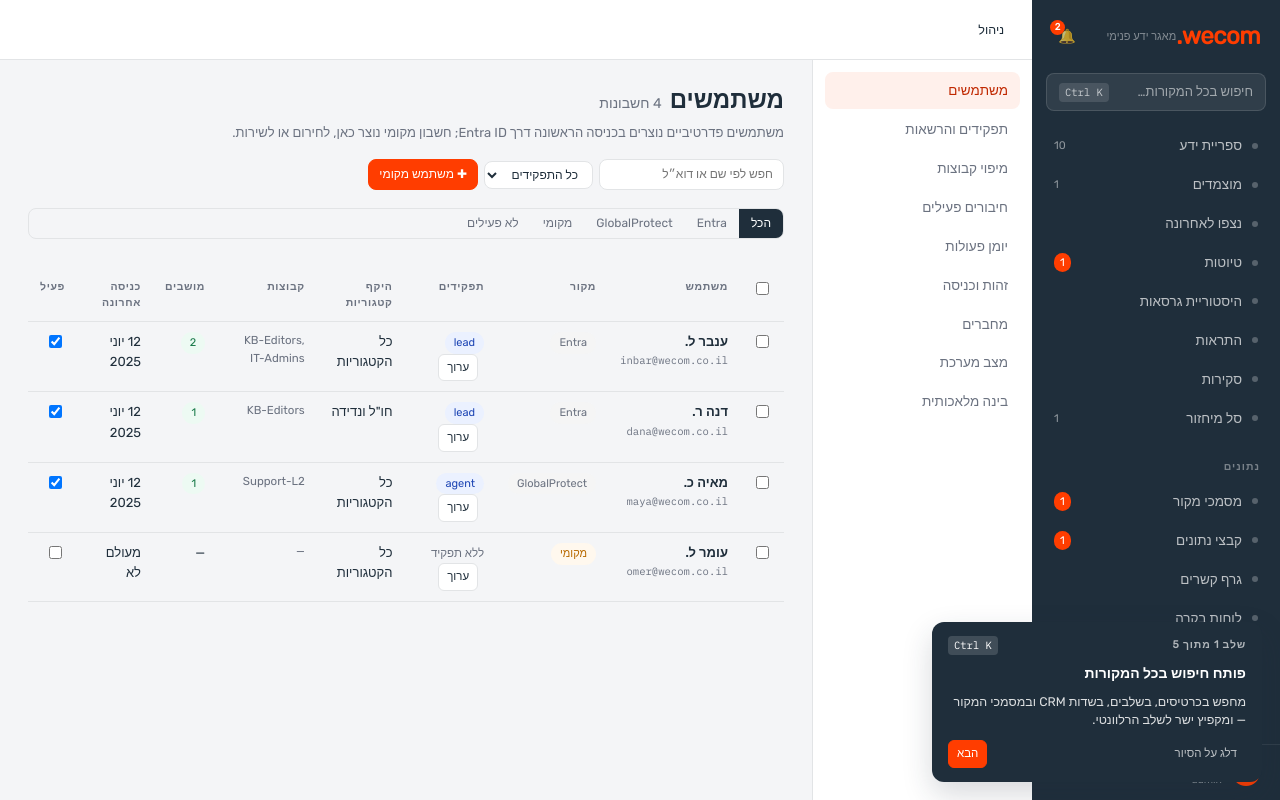
admin · users › edits a role with a multi-category scope in one PATCH
The width and height of the screenshot is (1280, 800).
Step 1. Click the button with aria-label "ערוך תפקיד של ענבר ל." → (458, 368), box [438, 354, 478, 381]
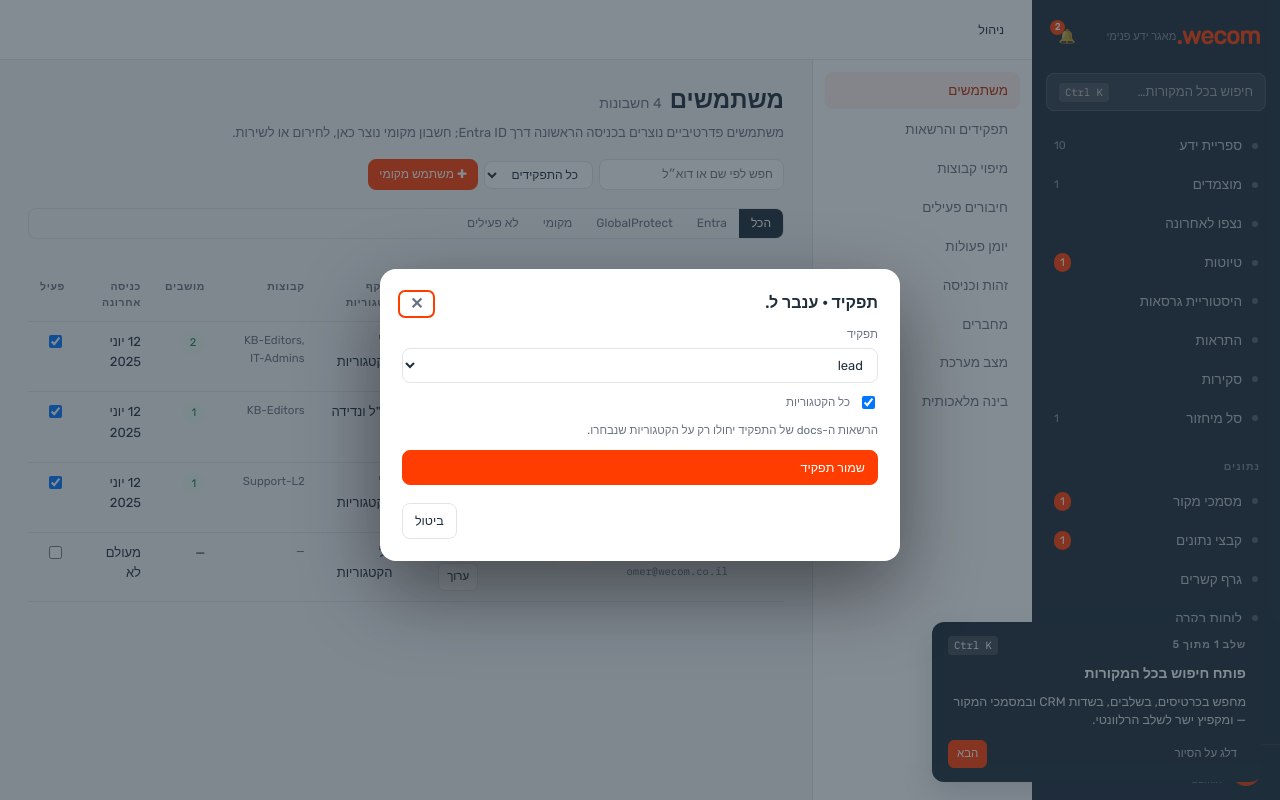
Step 2. Click the checkbox labelled "כל הקטגוריות" → (868, 402), box [862, 396, 875, 409]
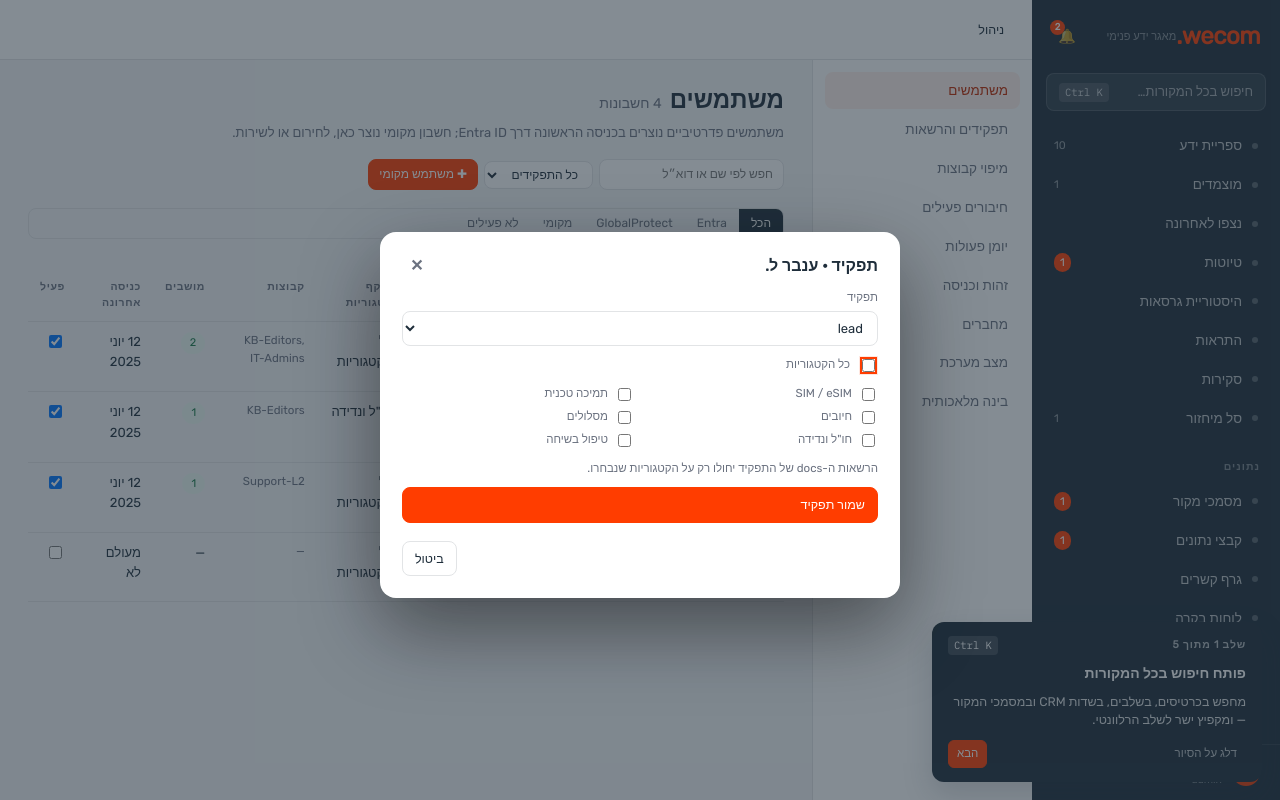
Step 3. Click the checkbox labelled "חו\"ל ונדידה" → (868, 440), box [862, 434, 875, 446]
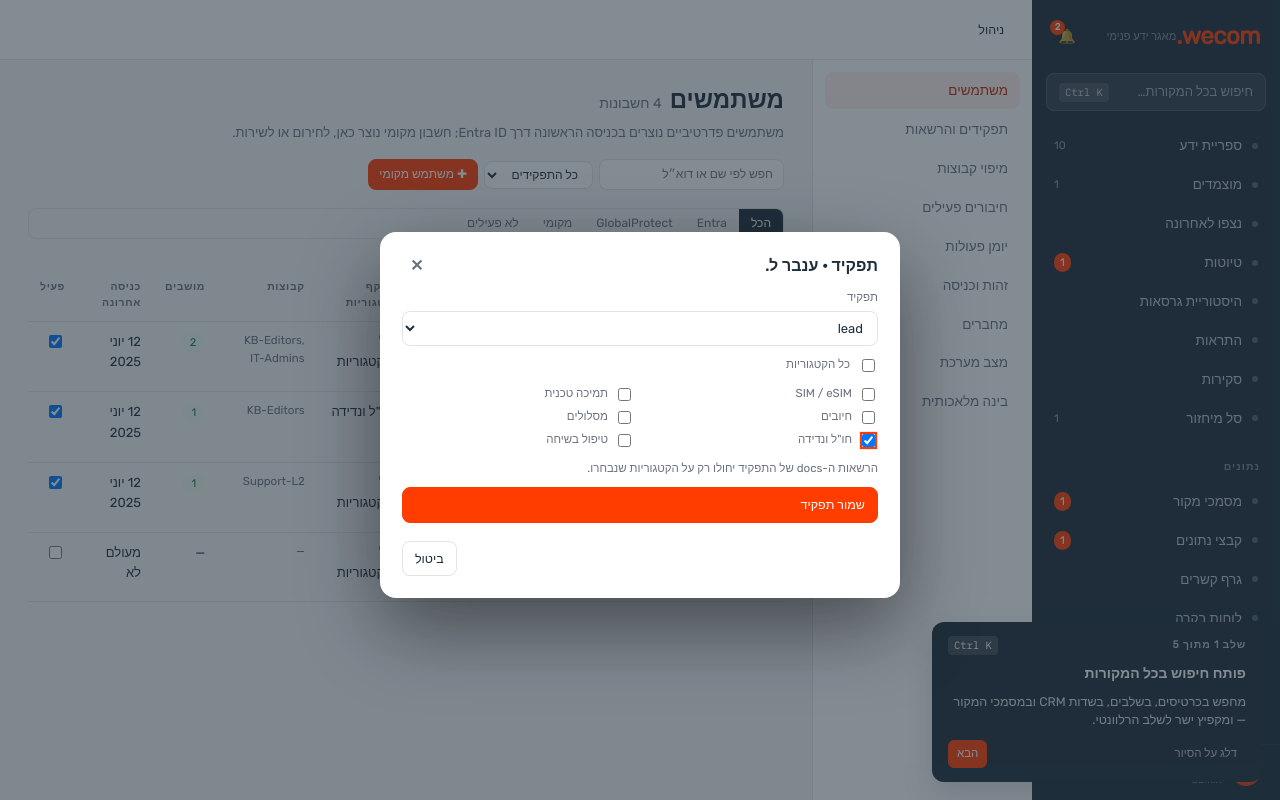
Step 4. Click the checkbox labelled "תמיכה טכנית" → (624, 394), box [618, 388, 631, 400]
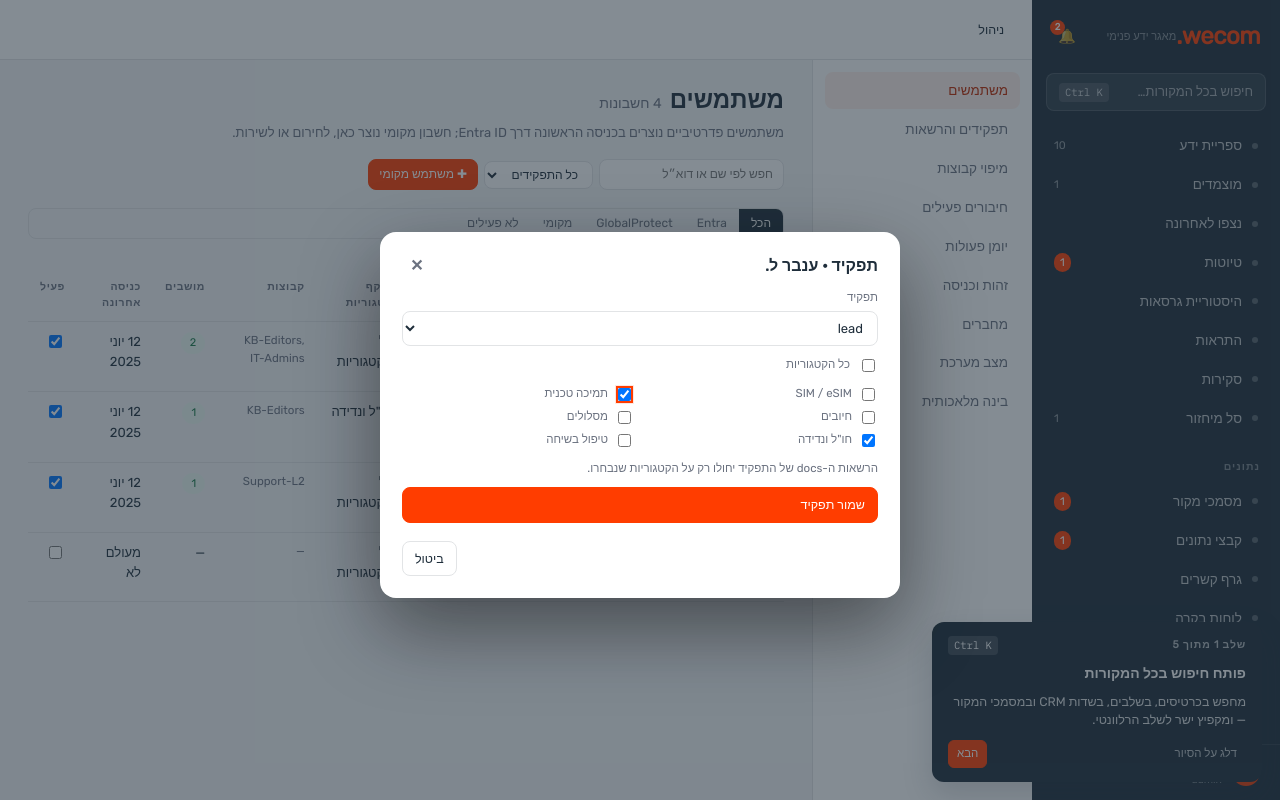
Step 5. Click the button "שמור תפקיד" → (833, 505), box [402, 487, 878, 523]
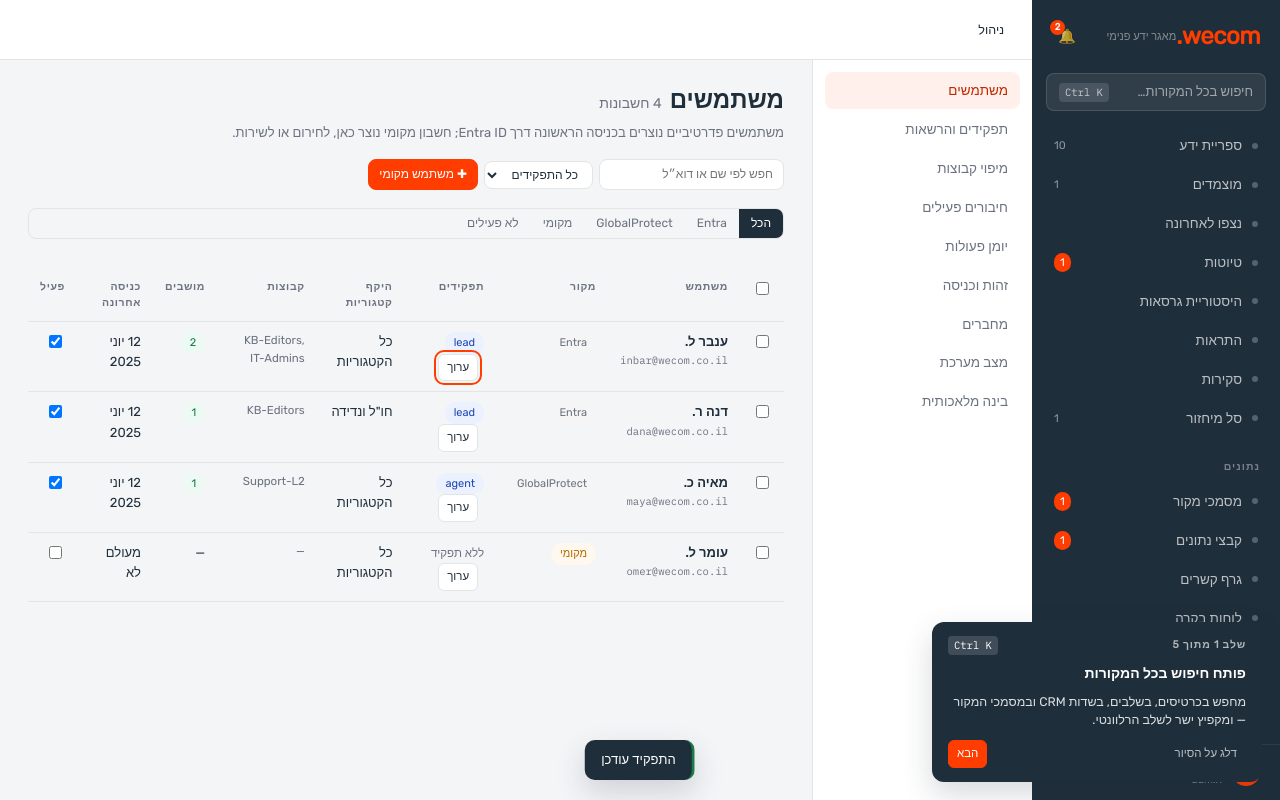
Now the text "התפקיד עודכן" is shown, box [601, 750, 676, 770]
